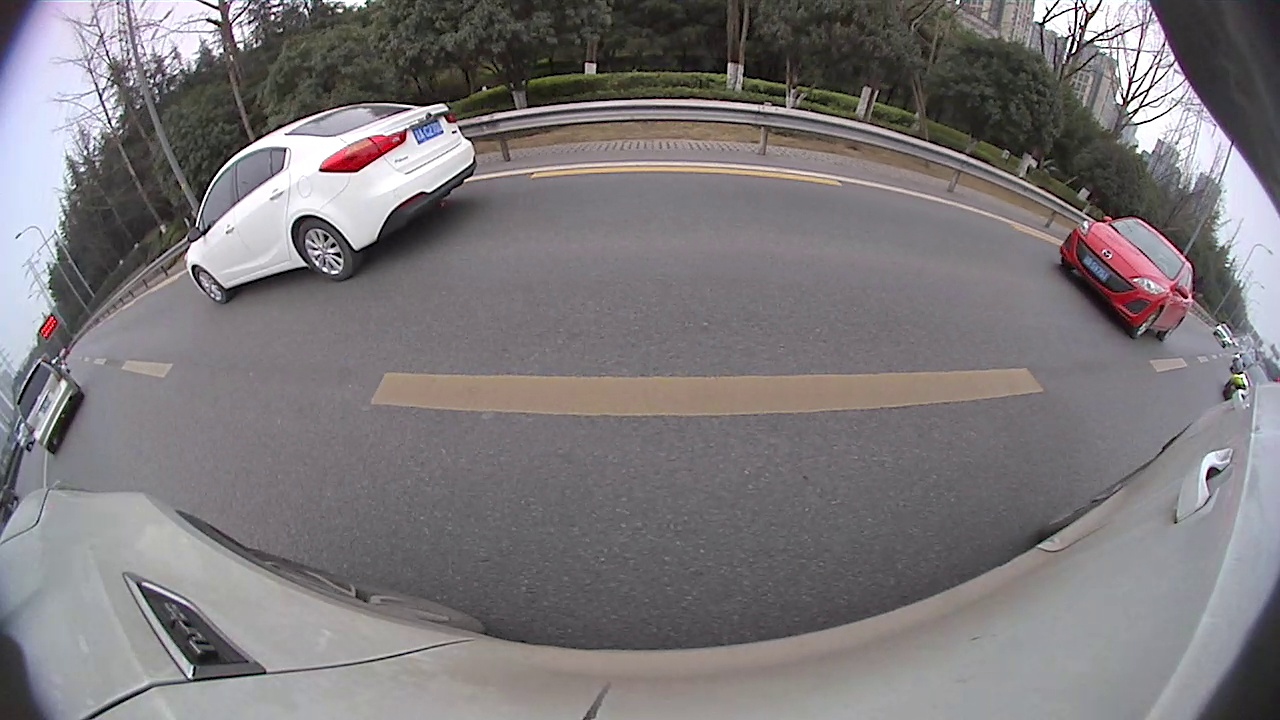bus: (888, 136, 1227, 267), (737, 124, 833, 197)
car: (1, 228, 313, 490), (1026, 236, 1278, 451), (290, 123, 517, 268), (956, 200, 1126, 274), (600, 139, 694, 211), (503, 153, 572, 199)
front: (204, 277, 285, 365), (1045, 267, 1107, 344), (924, 195, 948, 228), (499, 182, 518, 220), (968, 223, 991, 252)
rear: (416, 198, 453, 254), (549, 180, 558, 200)
